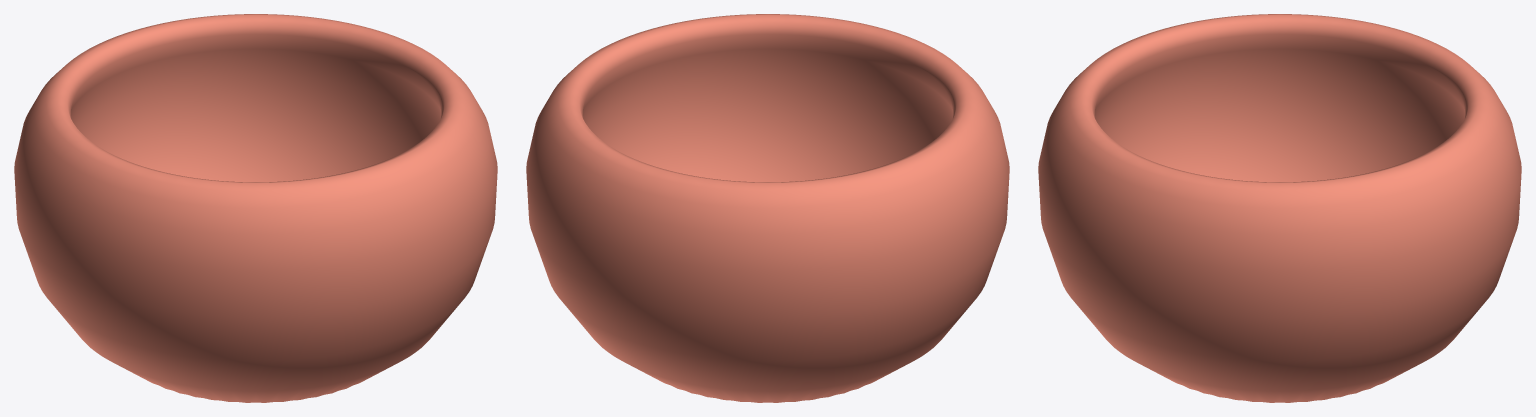
The model's file is bowls_a.glb.
3 renders of one model, left to right at view 1: azimuth 30°, elevation 25°; view 2: azimuth 150°, elevation 25°; view 3: azimuth 270°, elevation 25°, orthographic.
Parts seen in each view (by area): view 1: body; view 2: body; view 3: body.
Part boxes in pixels (<box>): body: <box>14,14,497,402</box>; body: <box>526,14,1009,402</box>; body: <box>1038,14,1521,402</box>.
Size of the model in its own units: 0.1745 by 0.1037 by 0.1745.
